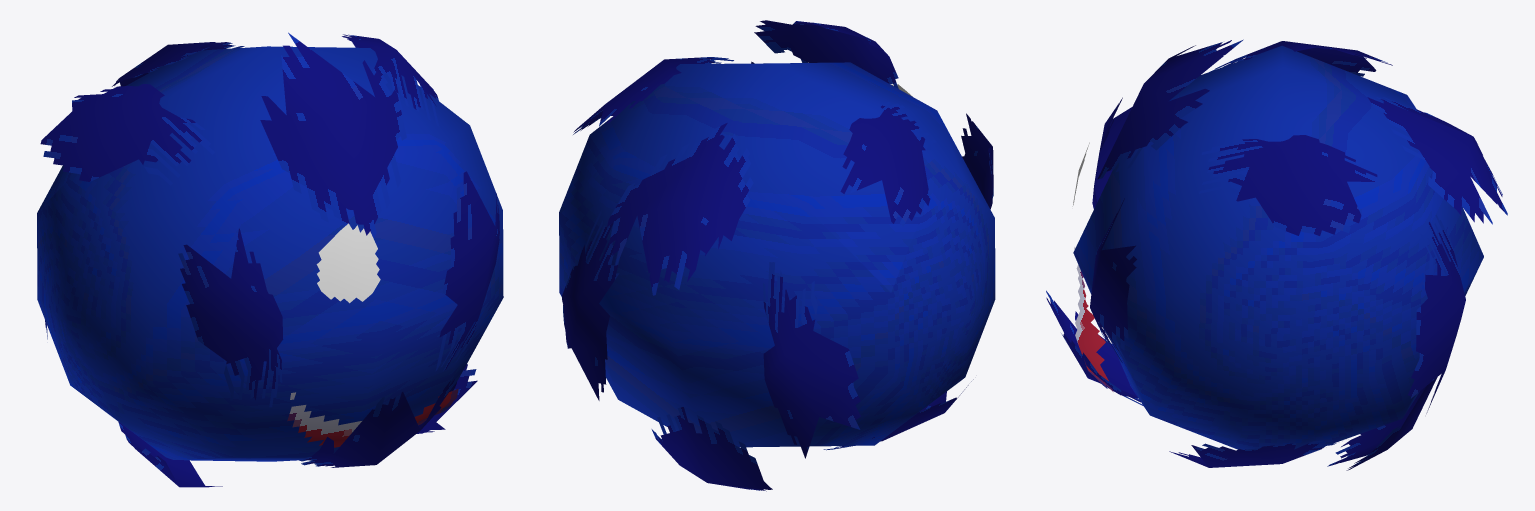
Rendered from son_ball.obj.
The picture shows the model from 3 angles, left to right: view 1: azimuth 30°, elevation 25°; view 2: azimuth 150°, elevation 25°; view 3: azimuth 270°, elevation 25°; orthographic projection. The views are drawn at different scales.
Visible parts, largest first — view 1: polygon0, polygon1, polygon3, polygon2; view 2: polygon0, polygon1; view 3: polygon0, polygon1, polygon2.
Boxes of the visible parts, <box> form: polygon0: <box>37,46,503,461</box>; polygon1: <box>40,32,499,487</box>; polygon3: <box>316,223,380,303</box>; polygon2: <box>287,388,458,447</box>; polygon0: <box>559,62,995,447</box>; polygon1: <box>562,20,993,491</box>; polygon0: <box>1073,45,1483,453</box>; polygon1: <box>1046,39,1507,470</box>; polygon2: <box>1074,247,1113,391</box>.
Bounding box in the file's own units: 6.86 × 7.74 × 7.74.
2 materials, 2 textured.
